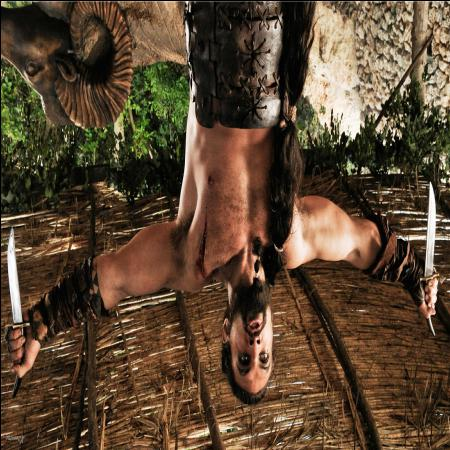long weapon: (1, 219, 28, 372), (419, 174, 440, 319)
